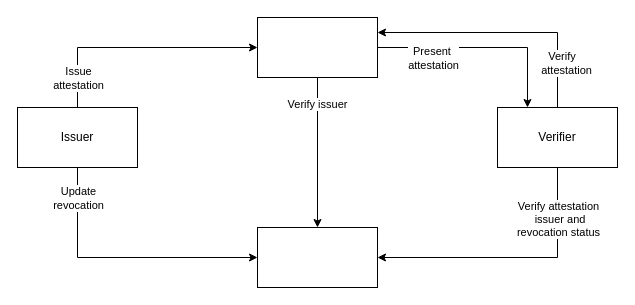
Image size: 635x305. Some labels were removed from this diagram. The shapes that lost their labels are listed below. From the top down, each one's centre as x and y in pixels, then its label:
At [317,47]: "Holder".
At [317,257]: "Data Registry".
